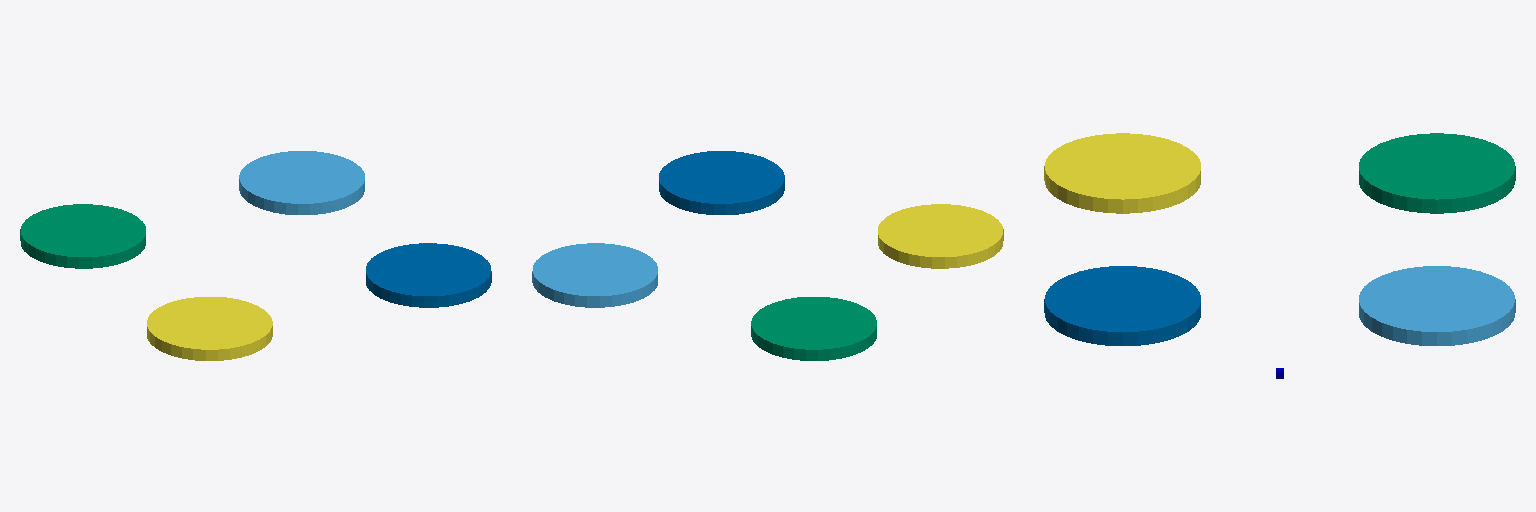
URDF robot description (quadrotor_full):
<?xml version="1.0" ?>
<!-- =================================================================================== -->
<!-- |    This document was autogenerated by xacro from quadrotor.urdf.xacro           | -->
<!-- |    EDITING THIS FILE BY HAND IS NOT RECOMMENDED                                 | -->
<!-- =================================================================================== -->
<robot name="quadrotor_full">
  <!-- Base Link -->
  <link name="base_link">
    <inertial>
      <origin rpy="0 0 0" xyz="0 0 0"/>
      <mass value="1.477"/>
      <inertia ixx="0.01152" ixy="0.0" ixz="0.0" iyy="0.01152" iyz="0.0" izz="0.0218"/>
    </inertial>
    <visual>
      <geometry>
        <mesh filename="file:///github/falco_ws/src/drone/meshes/quadrotor/quadrotor_base.dae"/>
      </geometry>
    </visual>
    <collision>
      <geometry>
        <mesh filename="file:///github/falco_ws/src/drone/meshes/quadrotor/quadrotor_base.stl"/>
      </geometry>
    </collision>
  </link>
  <!-- ROS 2 Control Configuration -->
  <ros2_control name="GazeboSystem" type="system">
    <hardware>
      <plugin>gazebo_ros2_control/GazeboSystem</plugin>
    </hardware>
    <joint name="rotor_1_joint">
      <command_interface name="velocity"/>
      <state_interface name="position"/>
      <state_interface name="velocity"/>
    </joint>
    <joint name="rotor_2_joint">
      <command_interface name="velocity"/>
      <state_interface name="position"/>
      <state_interface name="velocity"/>
    </joint>
    <joint name="rotor_3_joint">
      <command_interface name="velocity"/>
      <state_interface name="position"/>
      <state_interface name="velocity"/>
    </joint>
    <joint name="rotor_4_joint">
      <command_interface name="velocity"/>
      <state_interface name="position"/>
      <state_interface name="velocity"/>
    </joint>
  </ros2_control>
  <joint name="rotor_1_joint" type="continuous">
    <parent link="base_link"/>
    <child link="rotor_1_link"/>
    <origin rpy="0 0 0" xyz="0.2 0.2 0.1"/>
    <axis xyz="0 0 1"/>
  </joint>
  <link name="rotor_1_link">
    <inertial>
      <mass value="0.1"/>
      <inertia ixx="0.0001" ixy="0" ixz="0" iyy="0.0001" iyz="0" izz="0.0002"/>
    </inertial>
    <visual>
      <geometry>
        <cylinder length="0.02" radius="0.1"/>
      </geometry>
    </visual>
  </link>
  <joint name="rotor_2_joint" type="continuous">
    <parent link="base_link"/>
    <child link="rotor_2_link"/>
    <origin rpy="0 0 0" xyz="-0.2 0.2 0.1"/>
    <axis xyz="0 0 1"/>
  </joint>
  <link name="rotor_2_link">
    <inertial>
      <mass value="0.1"/>
      <inertia ixx="0.0001" ixy="0" ixz="0" iyy="0.0001" iyz="0" izz="0.0002"/>
    </inertial>
    <visual>
      <geometry>
        <cylinder length="0.02" radius="0.1"/>
      </geometry>
    </visual>
  </link>
  <joint name="rotor_3_joint" type="continuous">
    <parent link="base_link"/>
    <child link="rotor_3_link"/>
    <origin rpy="0 0 0" xyz="-0.2 -0.2 0.1"/>
    <axis xyz="0 0 1"/>
  </joint>
  <link name="rotor_3_link">
    <inertial>
      <mass value="0.1"/>
      <inertia ixx="0.0001" ixy="0" ixz="0" iyy="0.0001" iyz="0" izz="0.0002"/>
    </inertial>
    <visual>
      <geometry>
        <cylinder length="0.02" radius="0.1"/>
      </geometry>
    </visual>
  </link>
  <joint name="rotor_4_joint" type="continuous">
    <parent link="base_link"/>
    <child link="rotor_4_link"/>
    <origin rpy="0 0 0" xyz="0.2 -0.2 0.1"/>
    <axis xyz="0 0 1"/>
  </joint>
  <link name="rotor_4_link">
    <inertial>
      <mass value="0.1"/>
      <inertia ixx="0.0001" ixy="0" ixz="0" iyy="0.0001" iyz="0" izz="0.0002"/>
    </inertial>
    <visual>
      <geometry>
        <cylinder length="0.02" radius="0.1"/>
      </geometry>
    </visual>
  </link>
  <!-- Correct ROS 2 Gazebo Plugin -->
  <gazebo>
    <plugin filename="libgazebo_ros2_control.so" name="gazebo_ros2_control">
      <robot_param>robot_description</robot_param>
    </plugin>
  </gazebo>
  <gazebo>
    <plugin filename="libhector_gazebo_ros_imu.so" name="quadrotor_imu_sim">
      <alwaysOn>true</alwaysOn>
      <updateRate>100.0</updateRate>
      <bodyName>base_link</bodyName>
      <frameId>ardrone_base_link</frameId>
      <topicName>/quadrotor_0/imu</topicName>
      <xyzOffset>0 0 0</xyzOffset>
      <rpyOffset>0 0 0</rpyOffset>
      <gaussianNoise>0</gaussianNoise>
      <!-- deprecated -->
      <accelDrift>0.5 0.5 0.5</accelDrift>
      <accelGaussianNoise>0.35 0.35 0.3</accelGaussianNoise>
      <rateDrift>0.0 0.0 0.0</rateDrift>
      <rateGaussianNoise>0.00 0.00 0.00</rateGaussianNoise>
      <headingDrift>0.0</headingDrift>
      <headingGaussianNoise>0.00</headingGaussianNoise>
    </plugin>
    <plugin filename="libhector_gazebo_ros_baro.so" name="quadrotor_baro_sim">
      <alwaysOn>true</alwaysOn>
      <updateRate>10.0</updateRate>
      <bodyName>base_link</bodyName>
      <topicName>/quadrotor_0/pressure_height</topicName>
      <altimeterTopicName>altimeter</altimeterTopicName>
      <offset>0</offset>
      <drift>0.1</drift>
      <gaussianNoise>0.5</gaussianNoise>
    </plugin>
    <plugin filename="libhector_gazebo_ros_magnetic.so" name="quadrotor_magnetic_sim">
      <alwaysOn>true</alwaysOn>
      <updateRate>10.0</updateRate>
      <bodyName>base_link</bodyName>
      <topicName>/quadrotor_0/magnetic</topicName>
      <offset>0 0 0</offset>
      <drift>0.0 0.0 0.0</drift>
      <gaussianNoise>1.3e-2 1.3e-2 1.3e-2</gaussianNoise>
    </plugin>
    <plugin filename="libhector_gazebo_ros_gps.so" name="quadrotor_gps_sim">
      <alwaysOn>true</alwaysOn>
      <updateRate>4.0</updateRate>
      <bodyName>base_link</bodyName>
      <topicName>/quadrotor_0/fix</topicName>
      <velocityTopicName>/quadrotor_0/fix_velocity</velocityTopicName>
      <drift>5.0 5.0 5.0</drift>
      <gaussianNoise>0.1 0.1 0.1</gaussianNoise>
      <velocityDrift>0 0 0</velocityDrift>
      <velocityGaussianNoise>0.1 0.1 0.1</velocityGaussianNoise>
    </plugin>
    <plugin filename="libgazebo_ros_p3d.so" name="quadrotor_groundtruth_sim">
      <alwaysOn>true</alwaysOn>
      <updateRate>100.0</updateRate>
      <bodyName>base_link</bodyName>
      <topicName>/quadrotor_0/ground_truth/state</topicName>
      <gaussianNoise>0.0</gaussianNoise>
      <frameName>map</frameName>
    </plugin>
  </gazebo>
  <joint name="front_joint" type="fixed">
    <origin rpy="0 0 0" xyz="0.21 0.0 0.01"/>
    <parent link="base_link"/>
    <child link="front_link"/>
  </joint>
  <link name="front_link">
    <inertial>
      <mass value="0.001"/>
      <origin rpy="0 0 0" xyz="0 0 0"/>
      <inertia ixx="0.0001" ixy="0" ixz="0" iyy="0.0001" iyz="0" izz="0.0001"/>
    </inertial>
    <visual>
      <origin rpy="0 0 0" xyz="0 0 0"/>
      <geometry>
        <box size="0.01 0.01 0.01"/>
      </geometry>
      <material name="Blue">
        <color rgba="0.0 0.0 0.8 1"/>
      </material>
    </visual>
    <collision>
      <origin rpy="0 0 0" xyz="0 0 0"/>
      <geometry>
        <box size="0.01 0.01 0.01"/>
      </geometry>
    </collision>
  </link>
  <joint name="front_optical_joint" type="fixed">
    <origin rpy="-1.5707963267948966 0.0 -1.5707963267948966" xyz="0 0 0"/>
    <parent link="front_link"/>
    <child link="ardrone_base_frontcam"/>
  </joint>
  <link name="ardrone_base_frontcam">
    <inertial>
      <mass value="0.01"/>
      <origin xyz="0 0 0"/>
      <inertia ixx="0.001" ixy="0.0" ixz="0.0" iyy="0.001" iyz="0.0" izz="0.001"/>
    </inertial>
    <visual>
      <origin rpy="0 0 0" xyz="0 0 0"/>
      <geometry>
        <box size="0.001 0.001 0.001"/>
      </geometry>
    </visual>
    <collision>
      <origin rpy="0 0 0" xyz="0 0 0"/>
      <geometry>
        <box size="0.001 0.001 0.001"/>
      </geometry>
    </collision>
  </link>
  <gazebo reference="front_link">
    <sensor name="front_camera_sensor" type="camera">
      <update_rate>60</update_rate>
      <camera name="head">
        <horizontal_fov>1.413716694115407</horizontal_fov>
        <image>
          <width>640</width>
          <height>360</height>
          <format>R8G8B8</format>
        </image>
        <clip>
          <near>0.01</near>
          <far>100</far>
        </clip>
      </camera>
      <plugin filename="libgazebo_ros_camera.so" name="front_camera_controller">
        <robotNamespace>quadrotor_0</robotNamespace>
        <cameraName>front</cameraName>
        <alwaysOn>true</alwaysOn>
        <updateRate>60</updateRate>
        <imageTopicName>image_raw</imageTopicName>
        <cameraInfoTopicName>camera_info</cameraInfoTopicName>
        <frameName>ardrone_base_frontcam</frameName>
      </plugin>
    </sensor>
    <!--<turnGravityOff>true</turnGravityOff>-->
    <material>PR2/Blue</material>
  </gazebo>
</robot>

--- Facts derived from the render (not from the file) ---
Views: 3 orthographic renders of the robot side by side, from view 1: azimuth 30°, elevation 25°; view 2: azimuth 150°, elevation 25°; view 3: azimuth 270°, elevation 25°.
Robot: quadrotor_full — 7 links, 6 joints (4 continuous, 2 fixed); root link base_link; default pose: every joint at zero.
Links seen in each view (by area): view 1: rotor_2_link, rotor_4_link, rotor_1_link, rotor_3_link; view 2: rotor_1_link, rotor_3_link, rotor_2_link, rotor_4_link; view 3: rotor_1_link, rotor_4_link, rotor_2_link, rotor_3_link.
Link boxes in pixels (x1,y1,x2,y2): rotor_2_link: [20, 204, 145, 268]; rotor_4_link: [366, 243, 491, 307]; rotor_1_link: [239, 151, 364, 214]; rotor_3_link: [147, 297, 272, 360]; rotor_1_link: [532, 243, 657, 307]; rotor_3_link: [878, 204, 1003, 268]; rotor_2_link: [751, 297, 876, 360]; rotor_4_link: [659, 151, 784, 214]; rotor_1_link: [1359, 266, 1515, 345]; rotor_4_link: [1044, 266, 1200, 345]; rotor_2_link: [1359, 133, 1515, 213]; rotor_3_link: [1044, 133, 1200, 213].
Size in the robot's own frame: 0.6 by 0.6 by 0.105 metres.
Geometry: only primitive shapes (box / cylinder / sphere) drawn; not drawn: 1 mesh visual (reference in a form the renderer does not follow).
